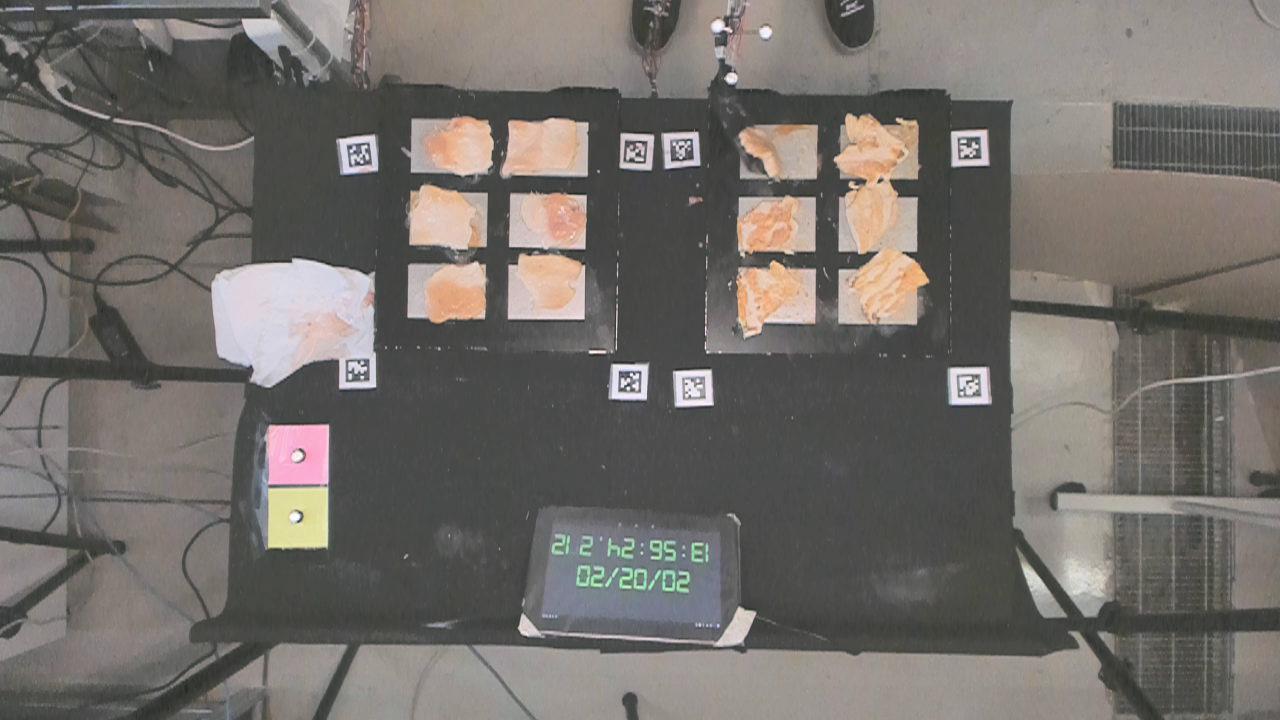chicken: (852, 246, 931, 322), (836, 107, 918, 178), (502, 113, 582, 177), (731, 263, 798, 336), (517, 185, 592, 247), (411, 185, 482, 250), (842, 184, 908, 253), (426, 111, 495, 175), (737, 190, 799, 257), (428, 260, 489, 326), (516, 251, 588, 306), (742, 122, 790, 188)
marker: (268, 426, 329, 485)
